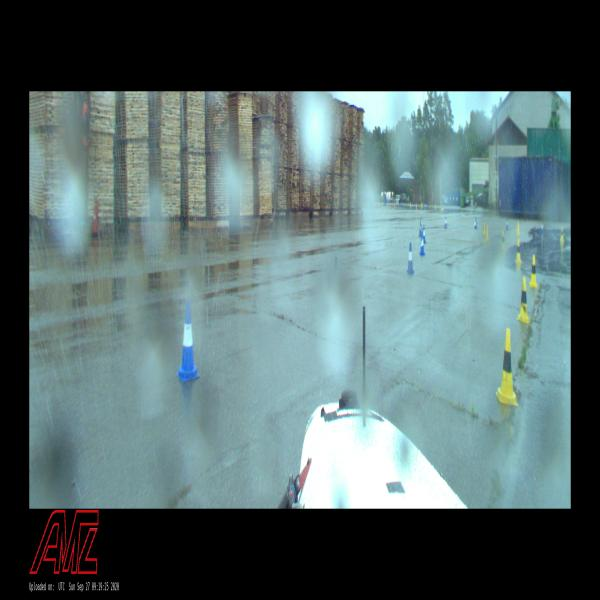blue_cone: (176, 301, 200, 382), (407, 243, 414, 273), (419, 234, 425, 256), (419, 222, 423, 237), (423, 225, 426, 243), (444, 216, 448, 228), (420, 218, 423, 231), (474, 217, 477, 228), (541, 222, 544, 233), (506, 218, 508, 228)
yellow_cone: (496, 328, 518, 406), (516, 276, 530, 323), (530, 255, 538, 287), (516, 239, 522, 263), (560, 227, 565, 242), (485, 225, 489, 242), (502, 230, 505, 249), (483, 220, 486, 236), (517, 222, 520, 236)
